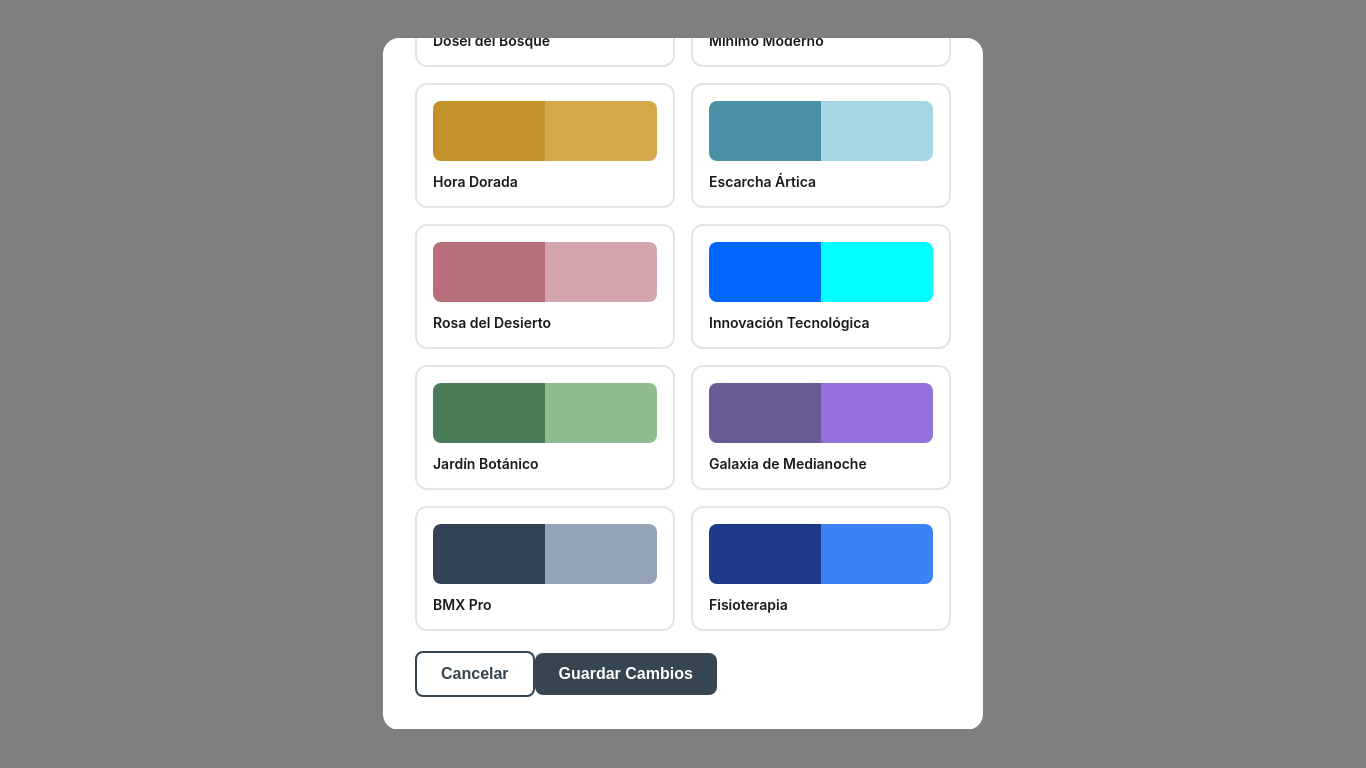
it: EditAppConfigModal › displays server error message if request fails
(page scrolled)
What coordinates should you click on to do the following:
click the button "Guardar Cambios"
I would click on:
 (626, 674)
Its box is [535,653,717,695].
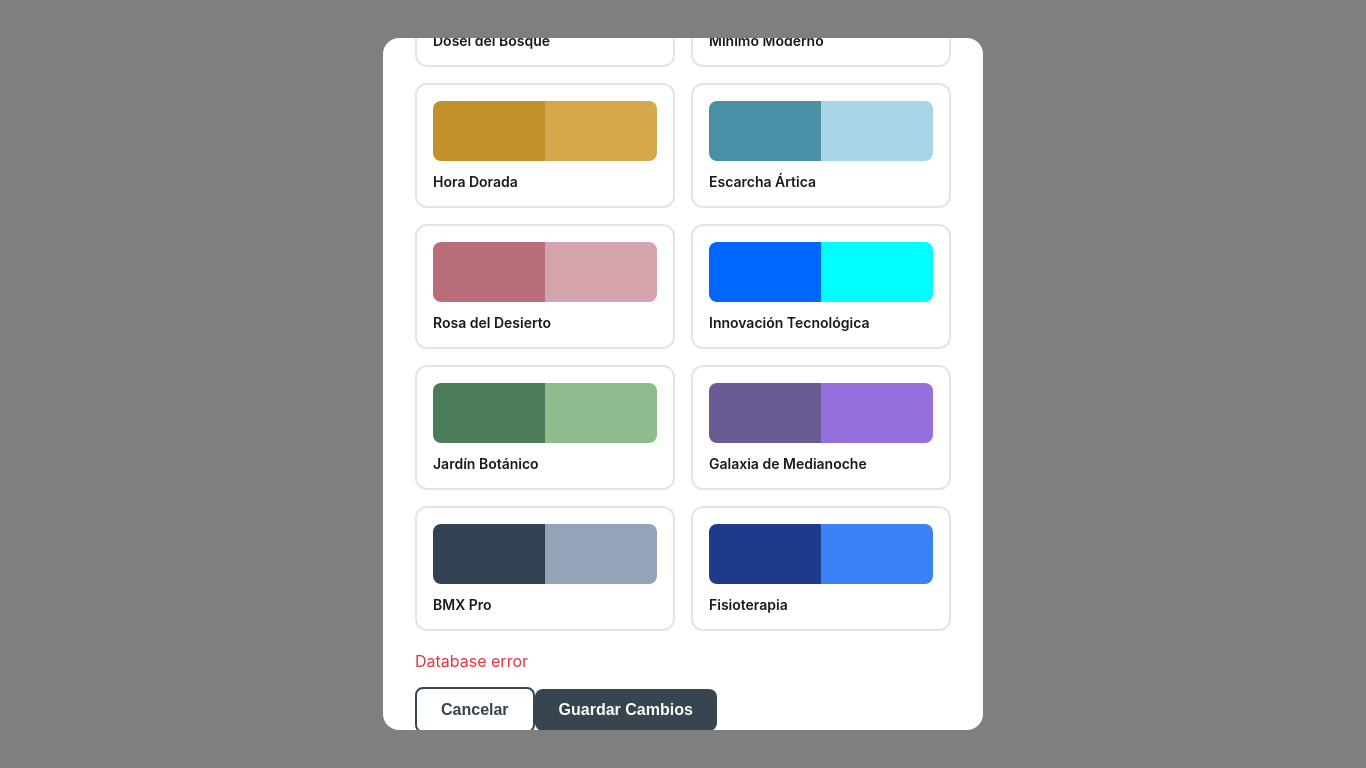
Check: the button "Guardar Cambios" is shown, box [535,689,717,730]
Check: the text "Database error" is shown, box [415,651,528,671]
